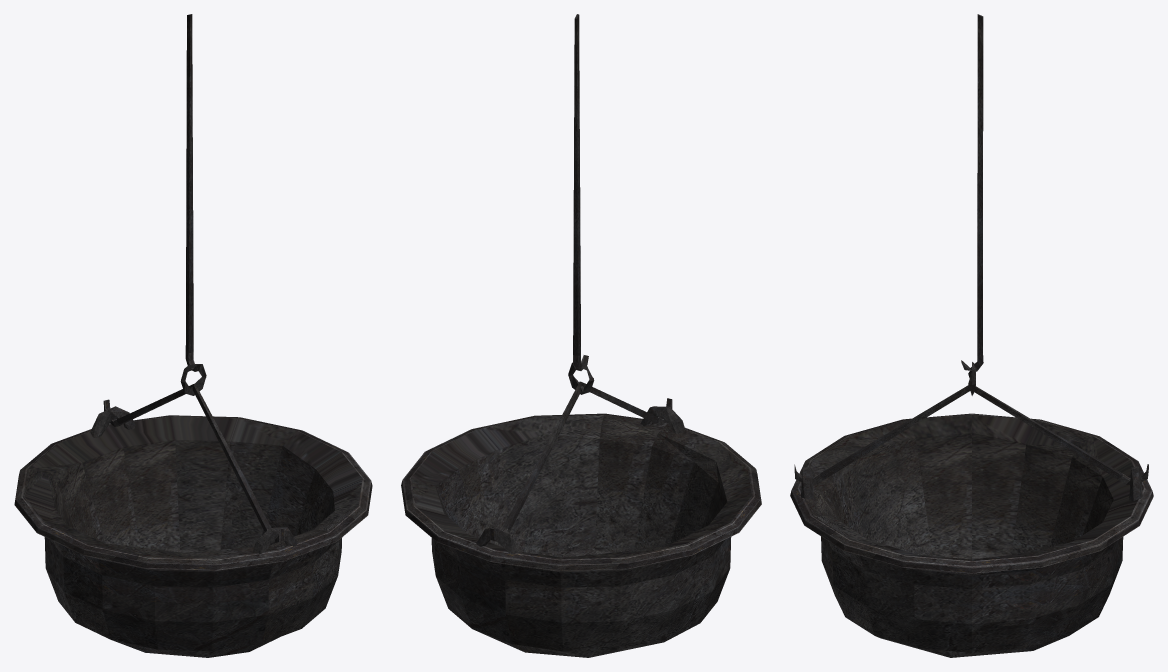
The model's file is tavern_cooker_LOD1.dae.
3 views of the same model, side by side, from view 1: azimuth 30°, elevation 25°; view 2: azimuth 150°, elevation 25°; view 3: azimuth 270°, elevation 25° (orthographic).
Parts seen in each view (by area): view 1: Default_Layer; view 2: Default_Layer; view 3: Default_Layer.
Part boxes in pixels (bbox=[...]): Default_Layer: bbox=[14, 14, 372, 657]; Default_Layer: bbox=[401, 14, 761, 657]; Default_Layer: bbox=[790, 14, 1153, 657].
Size of the model in its own units: 6.2 by 11.34 by 6.2.
